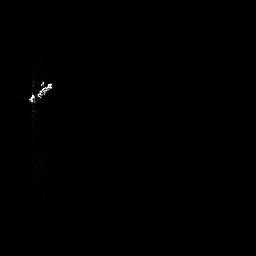ship: (24, 76, 57, 106)
